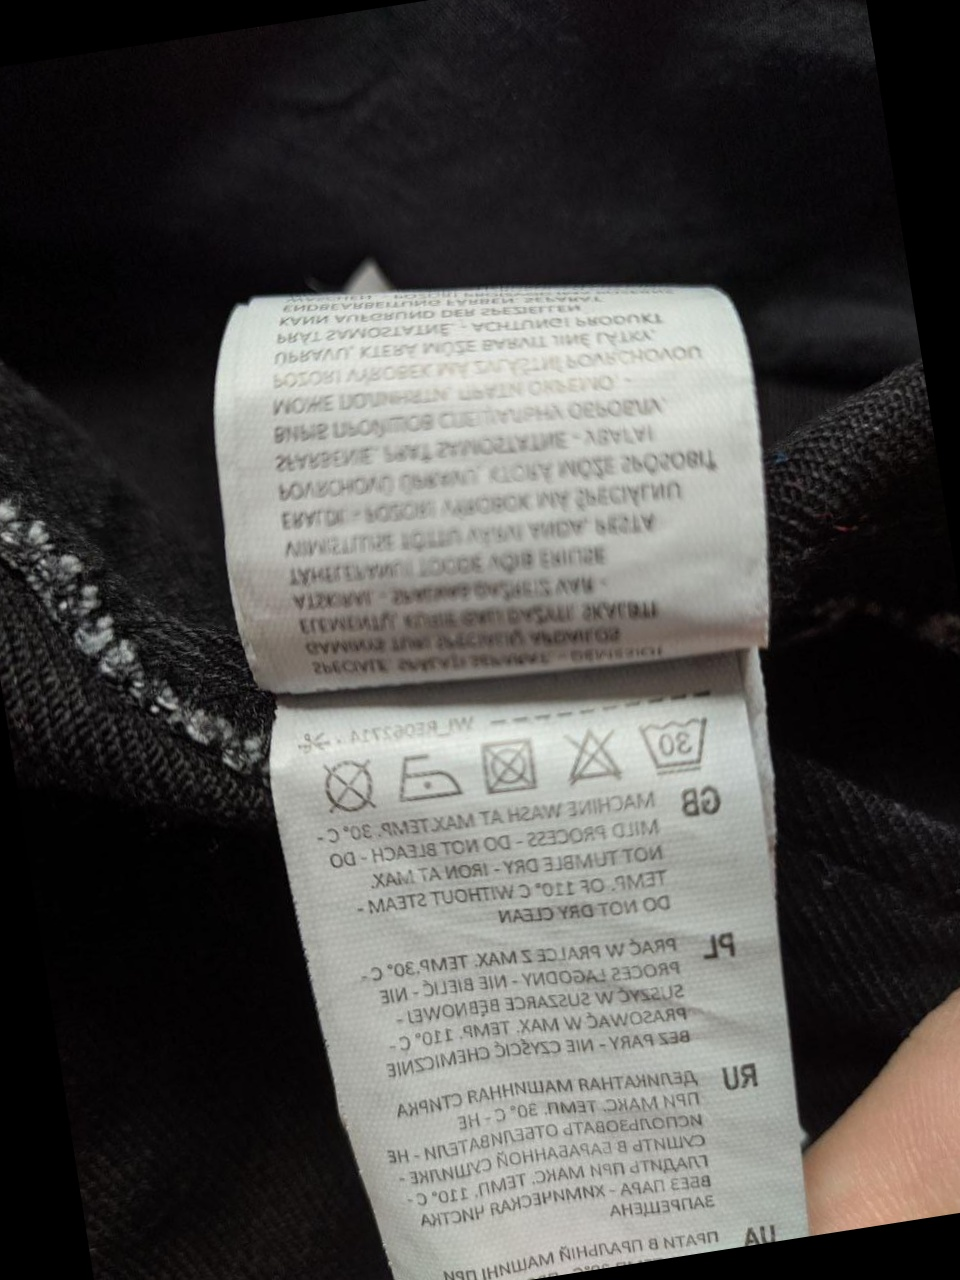30C: (634, 710, 719, 784)
DN_bleach: (553, 720, 626, 789)
DN_dry_clean: (313, 750, 386, 818)
DN_tumble_dry: (472, 730, 547, 805)
iron_low: (389, 743, 462, 810)
